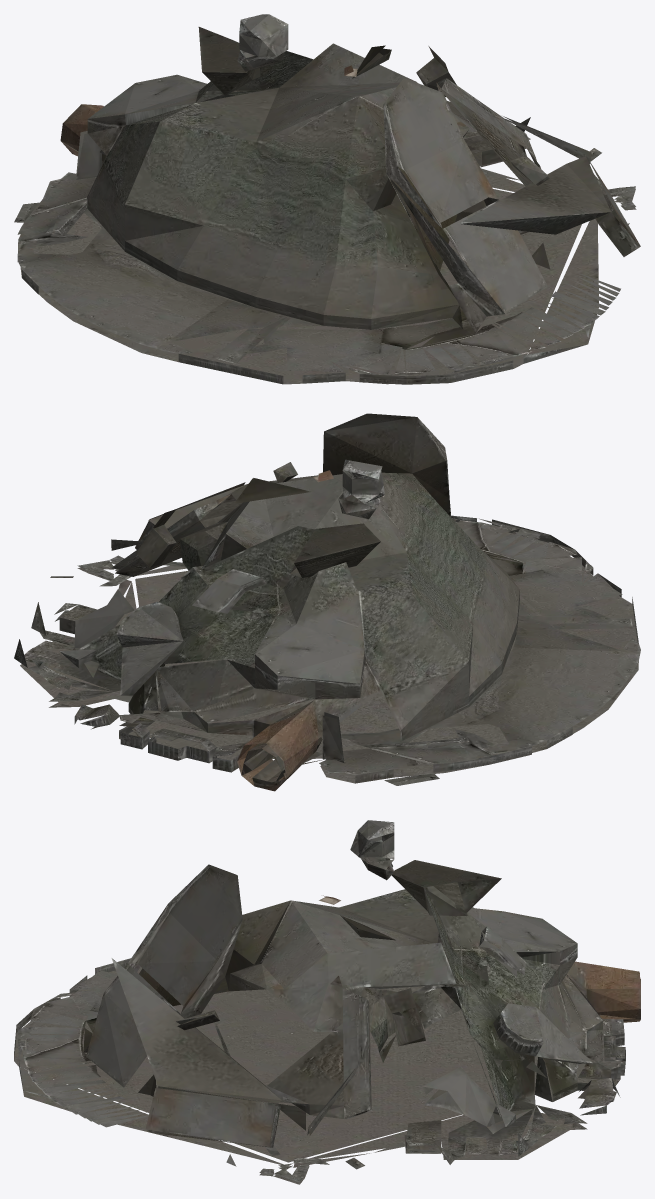
File: debris_LOD1.glb
3 views of the same model, one above another, from view 1: azimuth 30°, elevation 25°; view 2: azimuth 150°, elevation 25°; view 3: azimuth 270°, elevation 25° (orthographic). The views are drawn at different scales.
Visible parts, largest first — view 1: debris_LOD1; view 2: debris_LOD1; view 3: debris_LOD1.
Boxes of the visible parts, x1,y1,x2,y2 form: debris_LOD1: (14,14,640,384); debris_LOD1: (14,413,640,791); debris_LOD1: (14,820,640,1184).
Bounding box in the file's own units: 0.9347 × 0.3638 × 0.97.
1 material, 1 textured.
